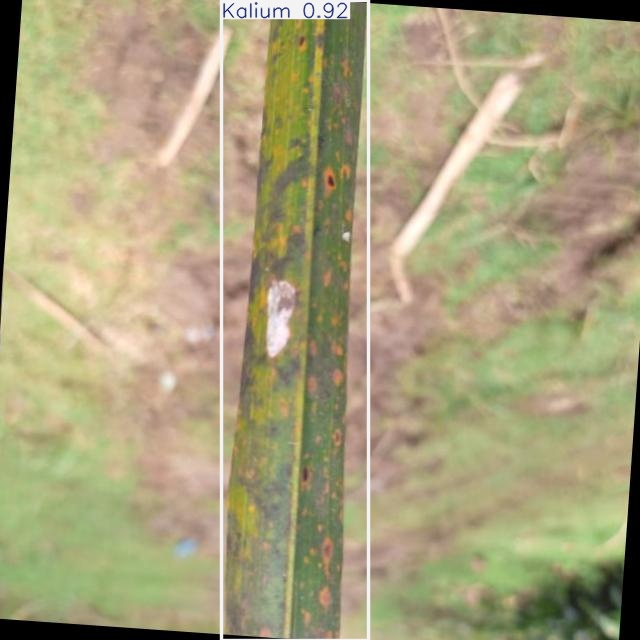Kalium: (222, 0, 369, 640)
